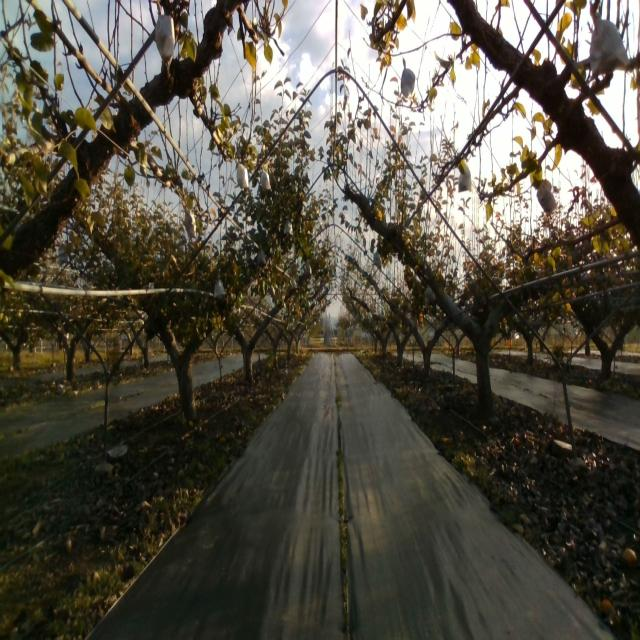pearbags: (588, 11, 630, 84), (155, 0, 175, 70), (536, 179, 558, 213), (401, 58, 416, 98), (182, 200, 197, 238), (457, 165, 472, 192), (236, 164, 249, 189), (260, 164, 271, 193), (424, 282, 436, 304), (213, 279, 226, 299)
